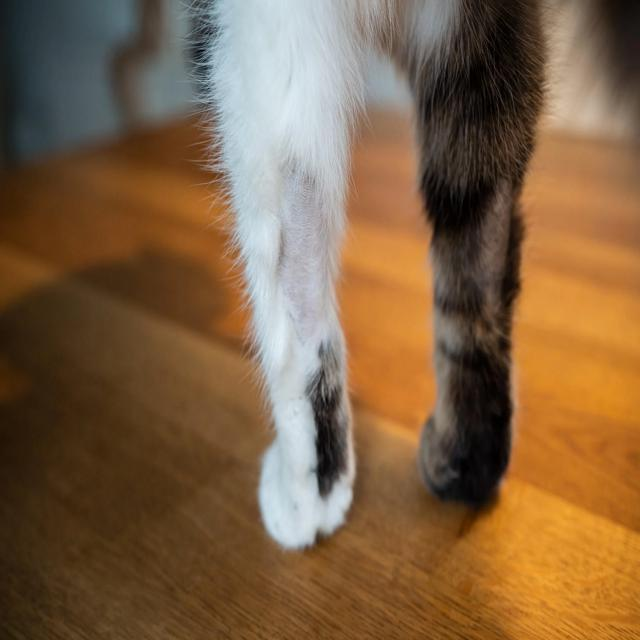hairloss: (272, 150, 342, 358)
